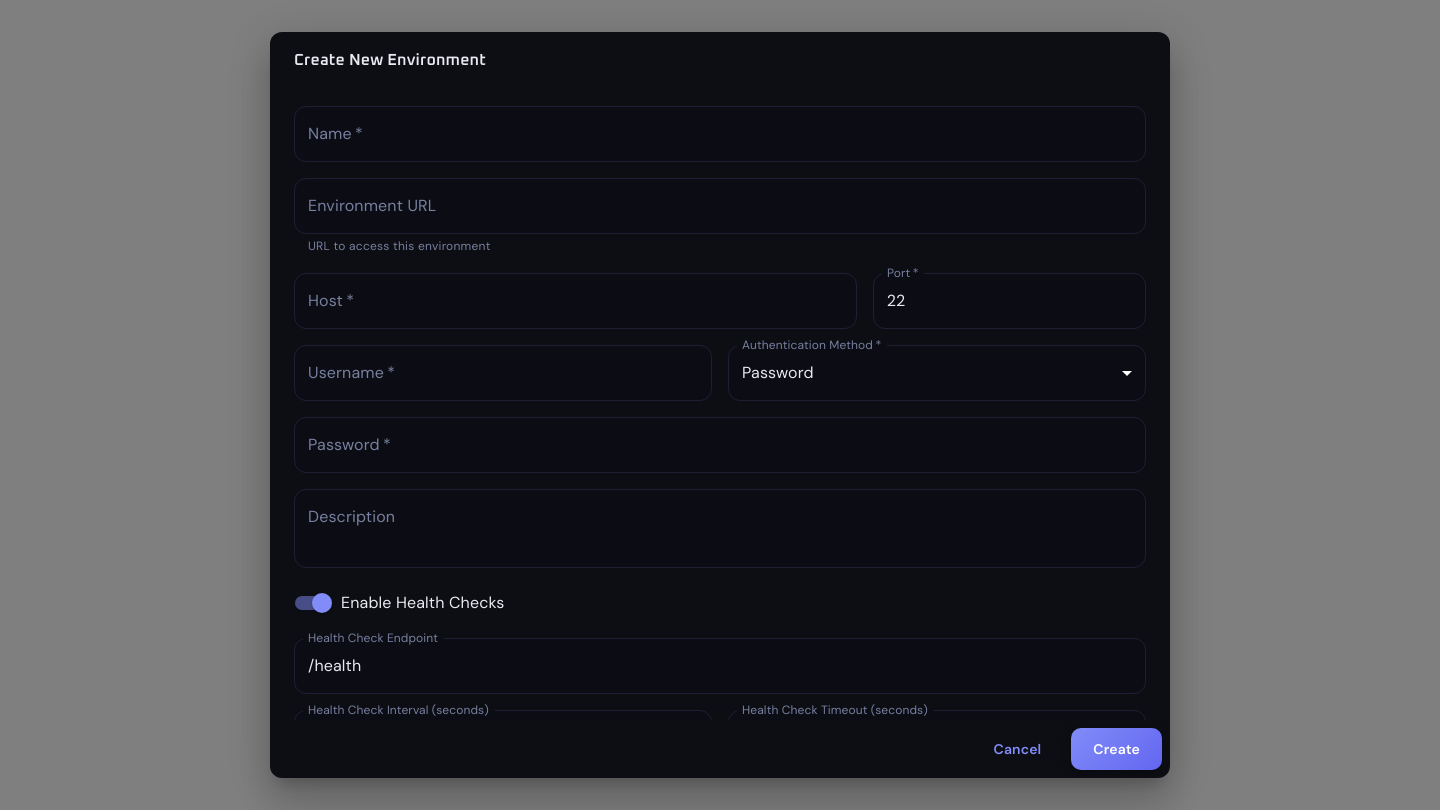
Scenario: CreateEnvironmentDialog › toggles health check fields when switch clicked
# Health check is enabled by default — click to disable
Click the checkbox labelled "Enable Health Checks".
click(400, 602)  # box x1=295 y1=592 x2=504 y2=612
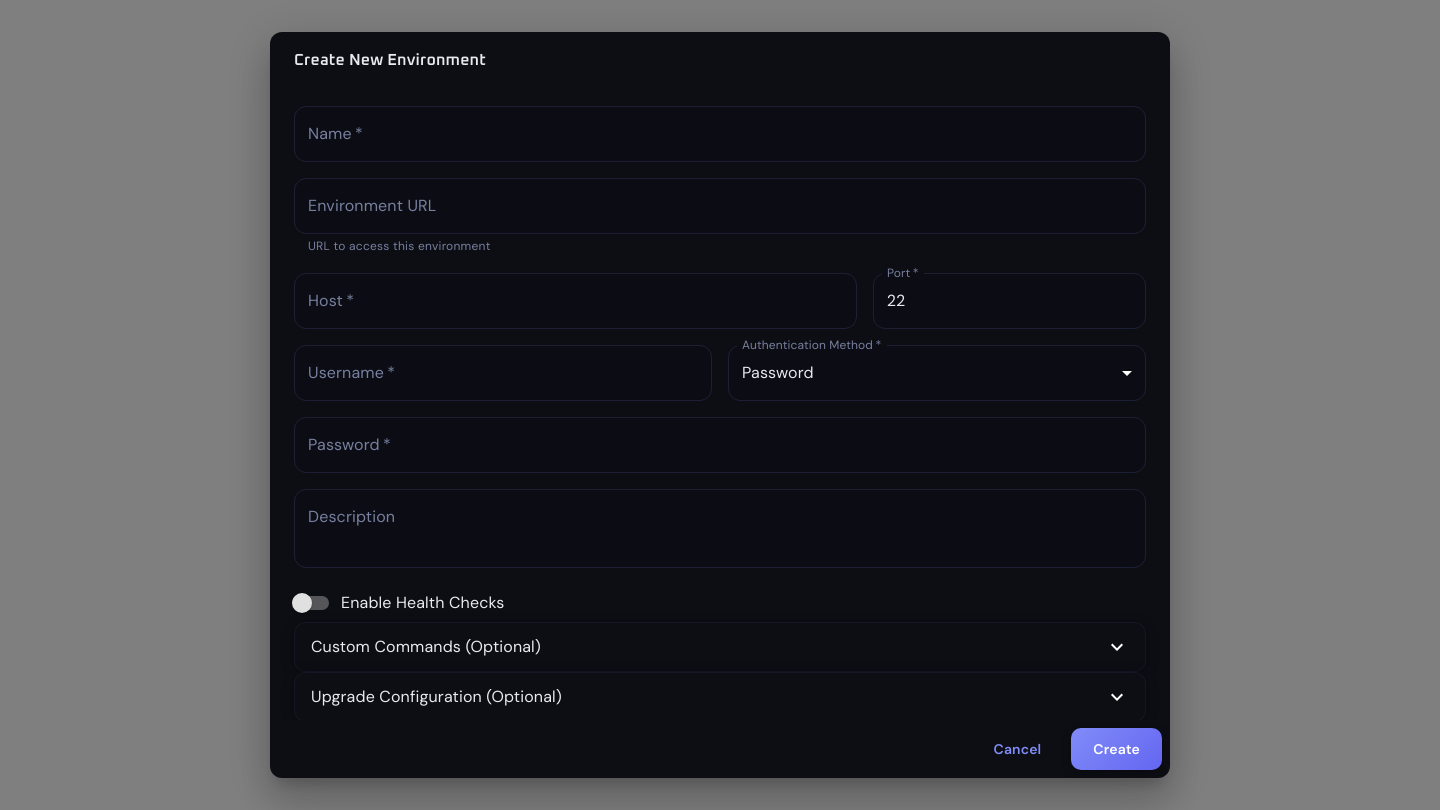
Result: the label labelled "Health Check Endpoint" is gone
# Click to re-enable
Click the checkbox labelled "Enable Health Checks".
click(398, 602)  # box x1=292 y1=592 x2=504 y2=612
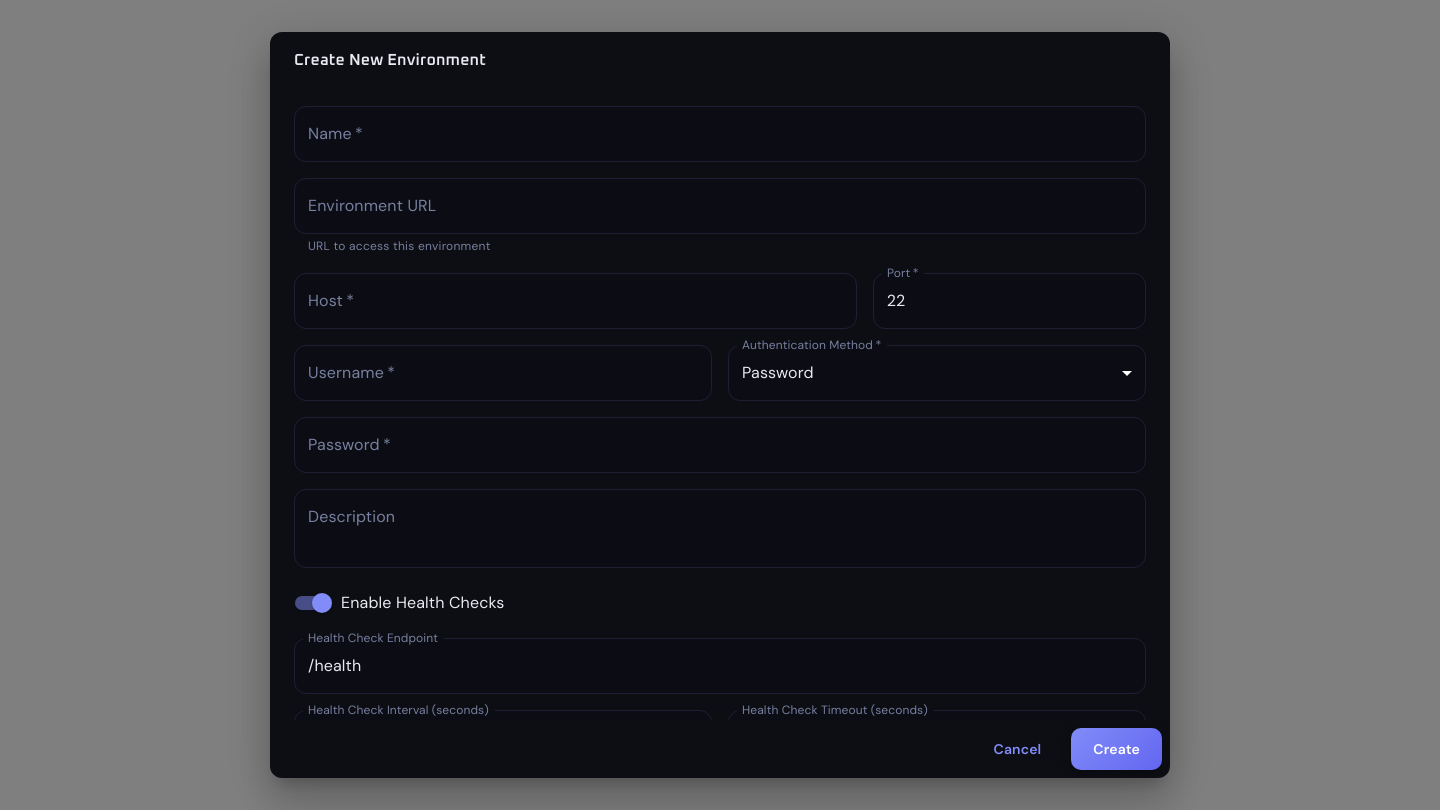
Result: the field labelled "Health Check Endpoint" is shown at x1=294 y1=638 x2=1146 y2=694
